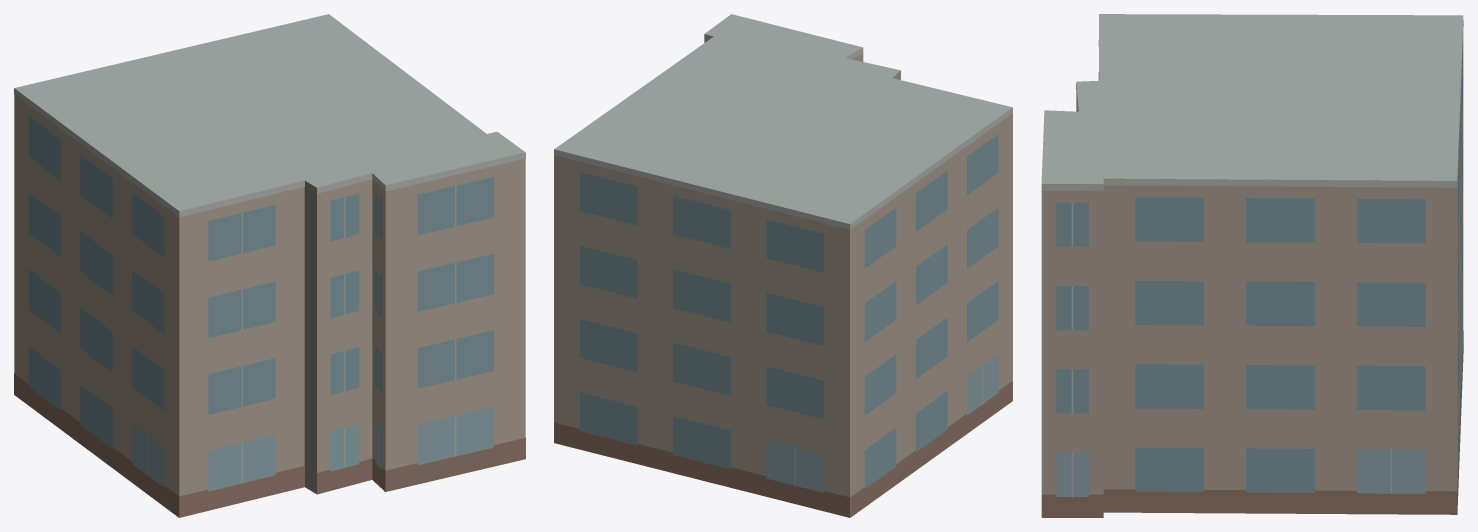
File: survey-upis-32813481.glb
3 renders of one model, left to right at view 1: azimuth 30°, elevation 25°; view 2: azimuth 150°, elevation 25°; view 3: azimuth 270°, elevation 25°, orthographic. The views are drawn at different scales.
Visible parts, largest first — view 1: survey-upis-32813481.tmp; view 2: survey-upis-32813481.tmp; view 3: survey-upis-32813481.tmp.
Boxes of the visible parts, x1=… form: survey-upis-32813481.tmp: x1=14, y1=14, x2=525, y2=517; survey-upis-32813481.tmp: x1=554, y1=14, x2=1012, y2=517; survey-upis-32813481.tmp: x1=1041, y1=14, x2=1463, y2=517.
Bounding box in the file's own units: 13.34 × 12.2 × 13.99.
